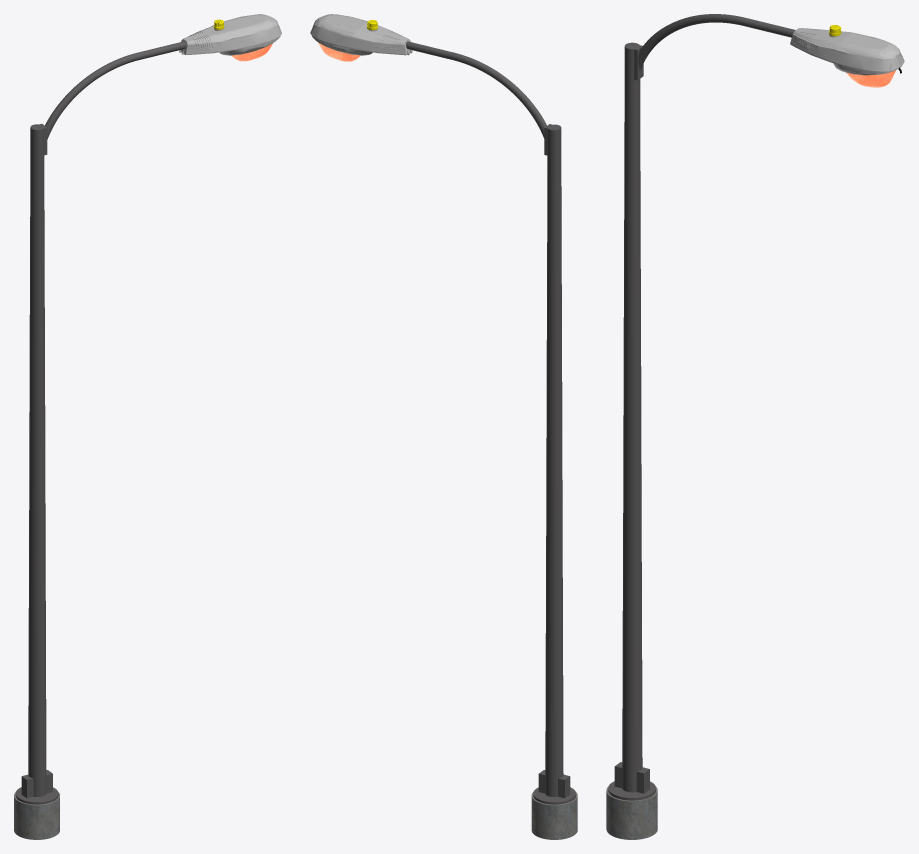
Rendered from single_parking_lot_light.glb.
3 renders of one model, left to right at view 1: azimuth 30°, elevation 25°; view 2: azimuth 150°, elevation 25°; view 3: azimuth 330°, elevation 25°, orthographic. The views are drawn at different scales.
Parts seen in each view (by area): view 1: 3MFMeshParent_166_166, 3MFMeshParent_14_14, 3MFMeshParent_0_0, 3MFMeshParent_170_170; view 2: 3MFMeshParent_166_166, 3MFMeshParent_14_14, 3MFMeshParent_0_0, 3MFMeshParent_170_170; view 3: 3MFMeshParent_166_166, 3MFMeshParent_14_14, 3MFMeshParent_0_0, 3MFMeshParent_170_170.
Boxes of the visible parts, x1,y1,x2,y2 form: 3MFMeshParent_166_166: (28, 124, 46, 796); 3MFMeshParent_14_14: (208, 14, 281, 50); 3MFMeshParent_0_0: (14, 792, 59, 839); 3MFMeshParent_170_170: (45, 52, 139, 139); 3MFMeshParent_166_166: (545, 124, 563, 796); 3MFMeshParent_14_14: (310, 14, 384, 50); 3MFMeshParent_0_0: (531, 792, 577, 839); 3MFMeshParent_170_170: (452, 53, 546, 138); 3MFMeshParent_166_166: (622, 42, 642, 792); 3MFMeshParent_14_14: (817, 31, 903, 71); 3MFMeshParent_0_0: (606, 786, 657, 839); 3MFMeshParent_170_170: (638, 14, 744, 70).
Size of the model in its own units: 3.71 by 10.36 by 0.5694.
16 materials, 3 textured.
